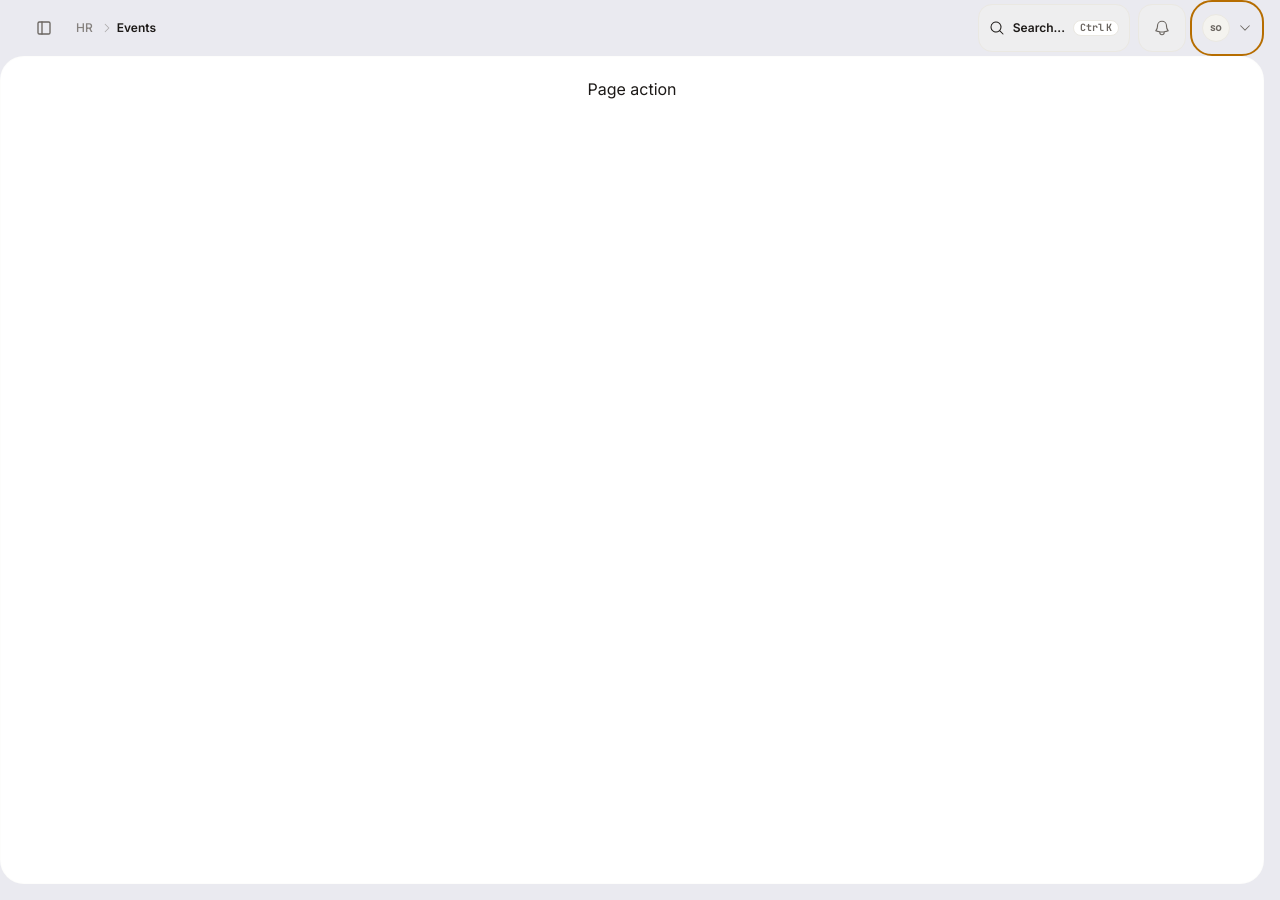
Test: Dream shared header controls › uses saved en names and preserves current-permission profile settings
Expected: the button "Search... Ctrl K" is shown, [978, 4, 1130, 52]
Expected: the navigation bar named "Breadcrumb" is shown, [76, 20, 156, 35]
Click the button with aria-label "Profile menu: Synthetic Operator 00286" at (1227, 28), box [1194, 4, 1260, 52]
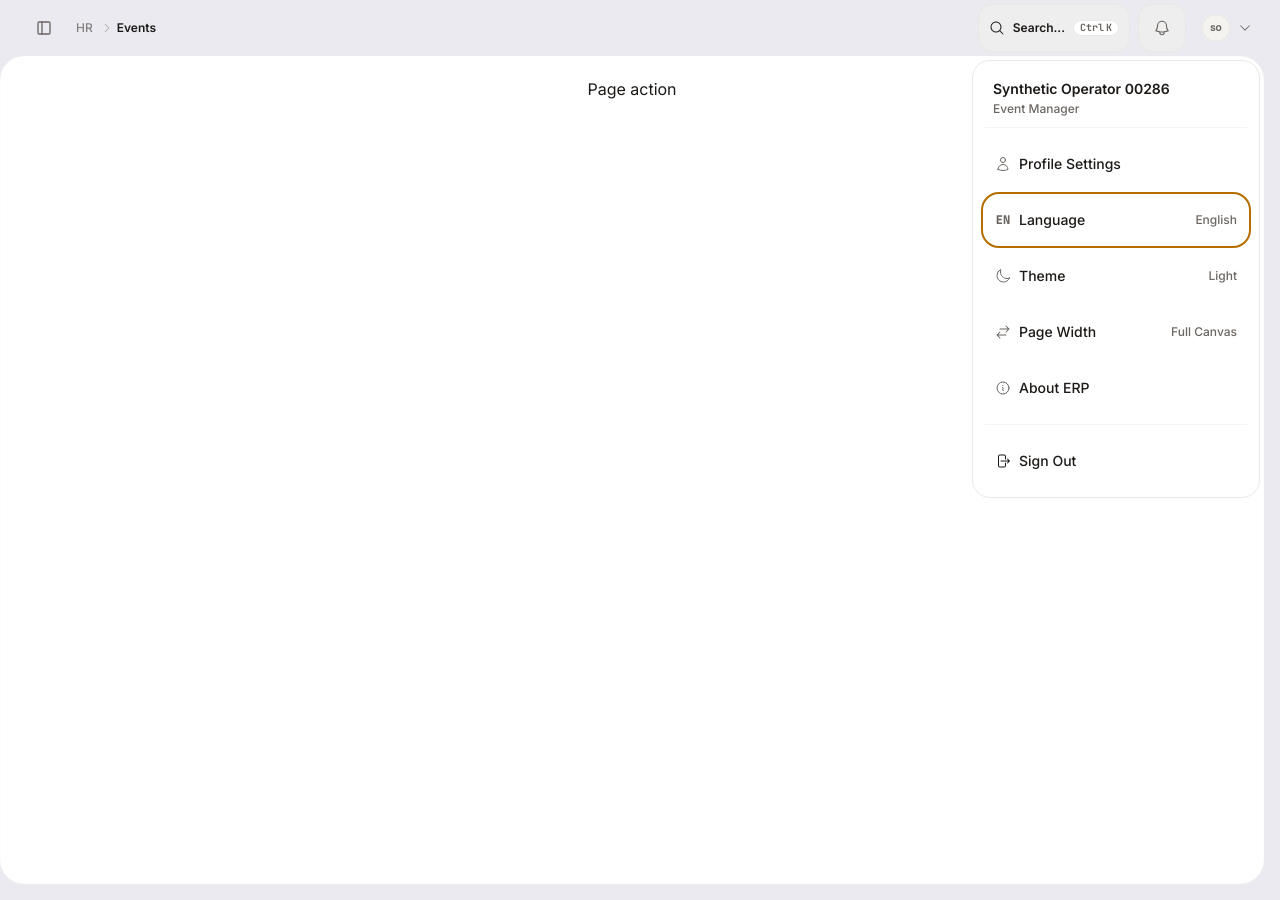
Now the text "Synthetic Operator 00286" is shown, box [993, 80, 1170, 97]
Now the text "Event Manager" is shown, box [993, 101, 1079, 116]
Now the button "Theme Light" is shown, box [985, 252, 1247, 300]
Press Escape in the button "EN Language English", box [985, 196, 1247, 244]
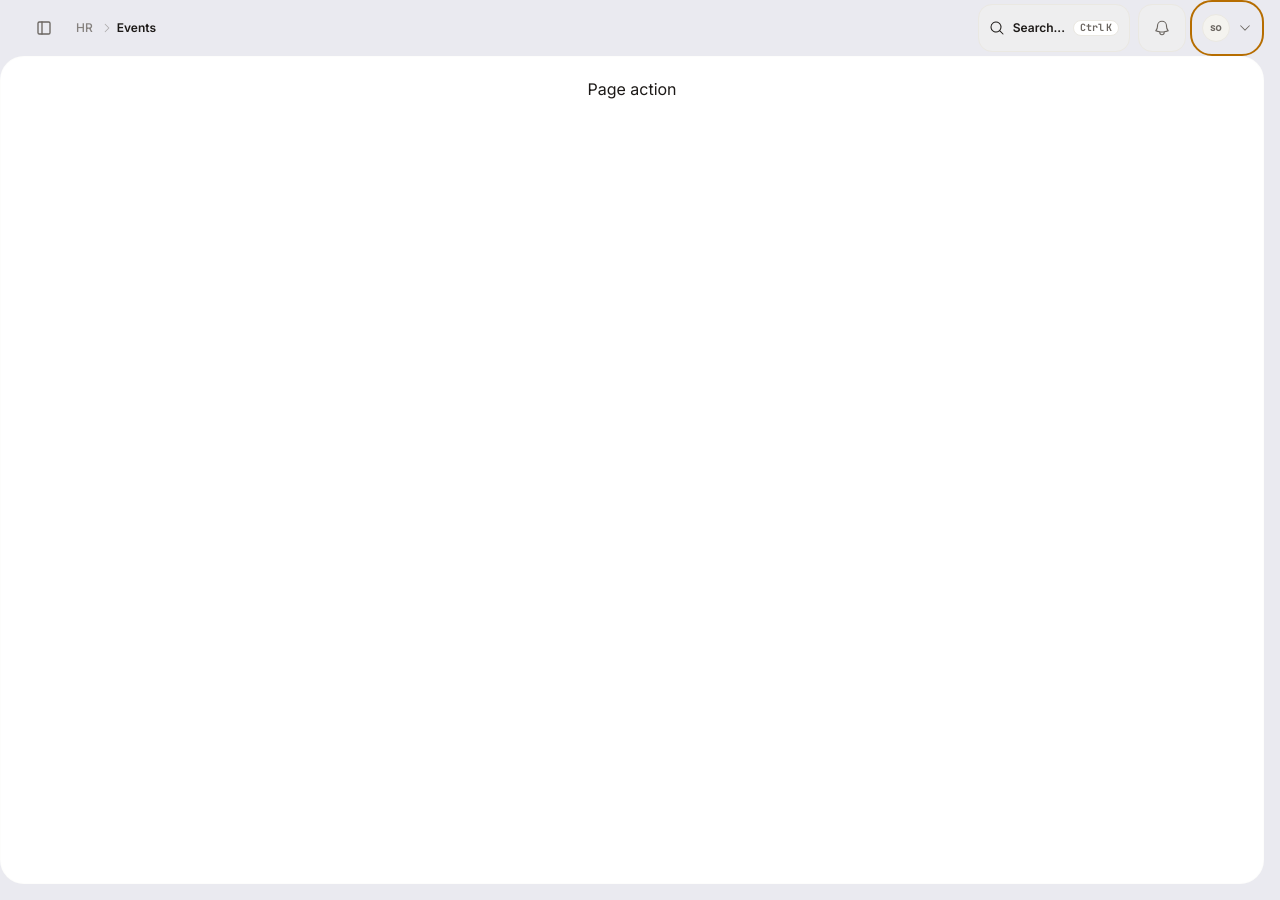
Now the dialog is gone
